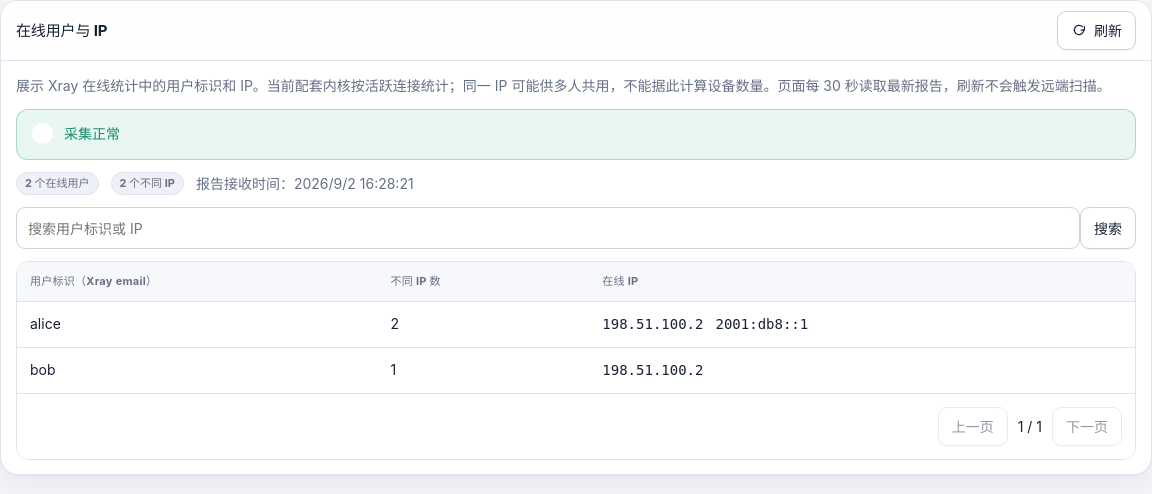
Test: online users › does not retain data on read errors
The image size is (1152, 494).
Click the button with aria-label "刷新在线用户": [1096, 30] box top-left (1057, 11), bottom-right (1136, 50)
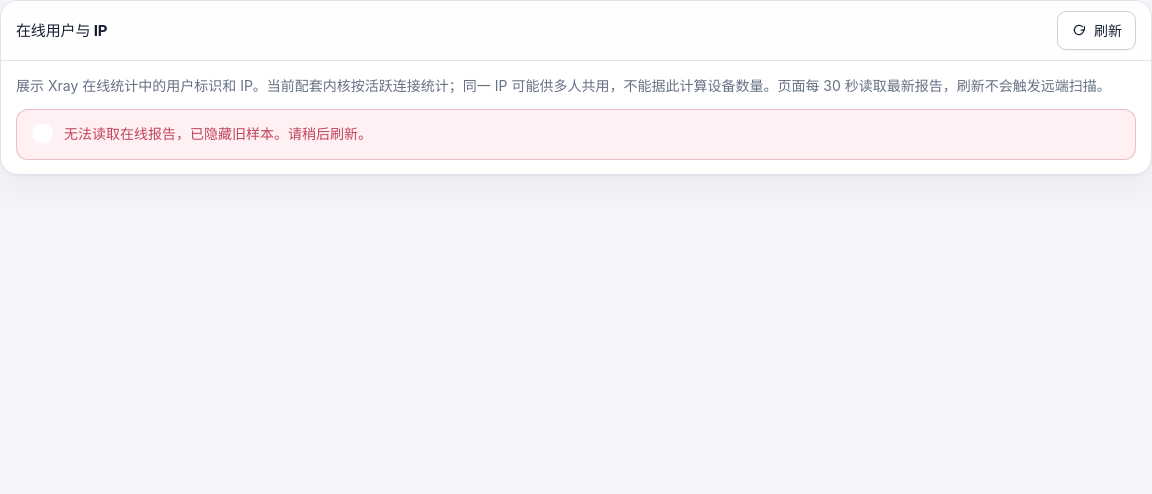
Expected: the text "2001:db8::1" is gone
Expected: the text "无法读取在线报告，已隐藏旧样本。请稍后刷新。" is shown, top-left (64, 125), bottom-right (372, 142)
